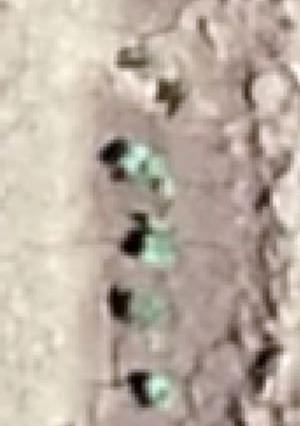cotton: (147, 379, 174, 403), (143, 238, 168, 261), (134, 296, 159, 318), (143, 155, 164, 175), (148, 220, 167, 237), (124, 158, 141, 176), (131, 145, 150, 160)
